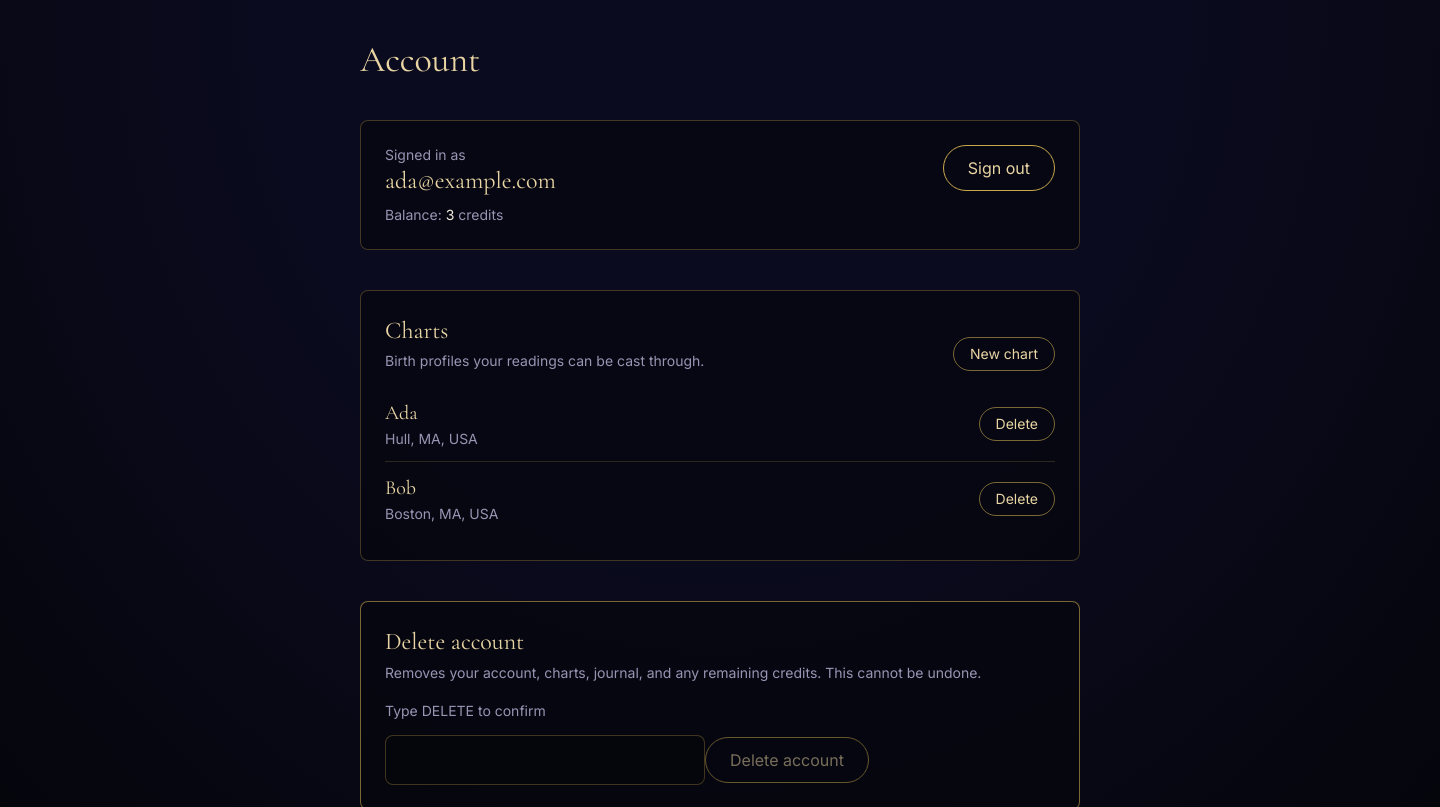
Test: profiles are listed and deleted after an inline confirmation
Expected: the number of list items is 2, [385, 387, 1055, 462]; [385, 462, 1055, 536]
Expected: the list item "Ada Hull, MA, USA Delete" is shown, [385, 387, 1055, 462]
Click the button with aria-label "Delete Ada" at point(1017, 424), box [979, 407, 1055, 441]
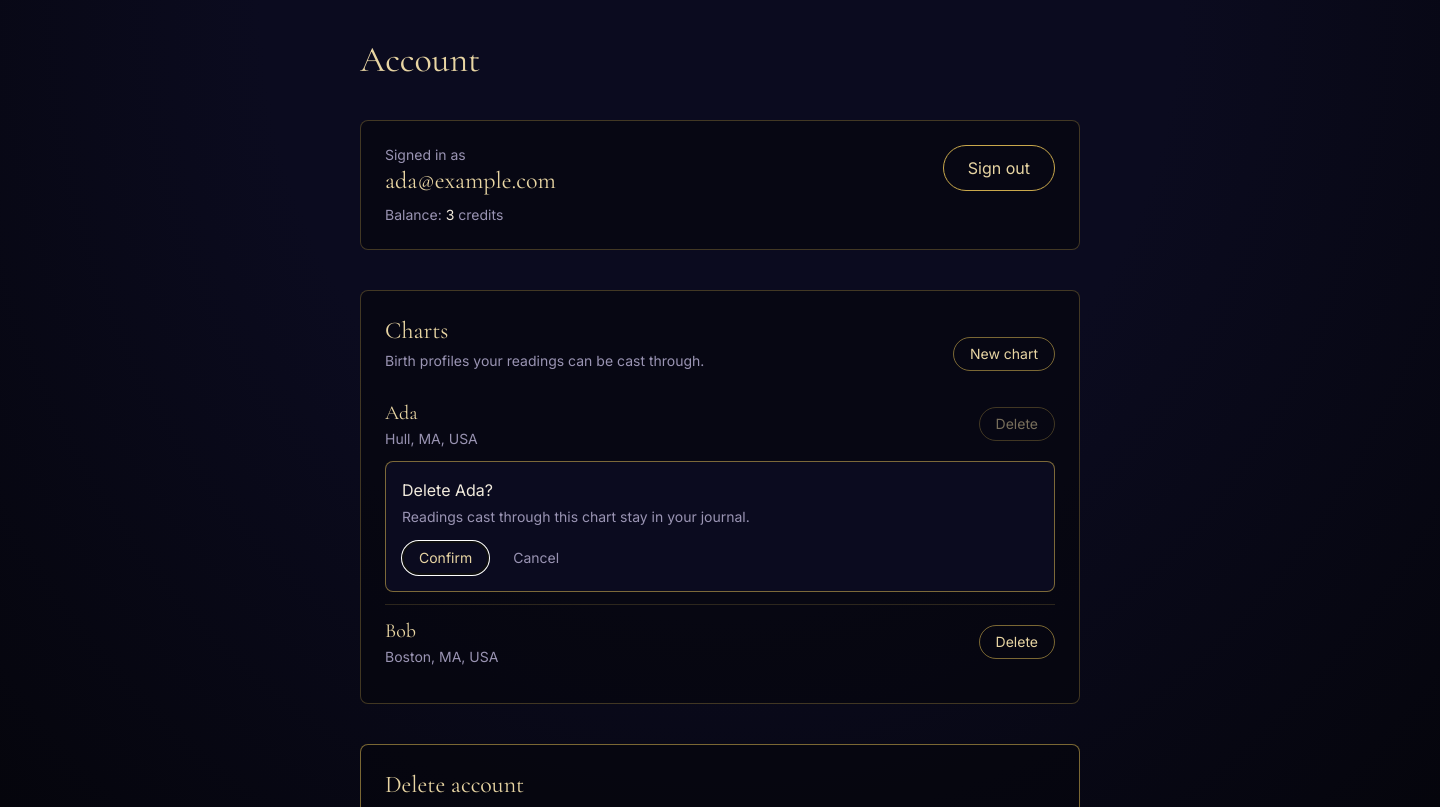
Expected: the text "Delete Ada?" is shown, [402, 480, 493, 500]
Click the button "Cancel" at point(536, 558), box [497, 541, 575, 575]
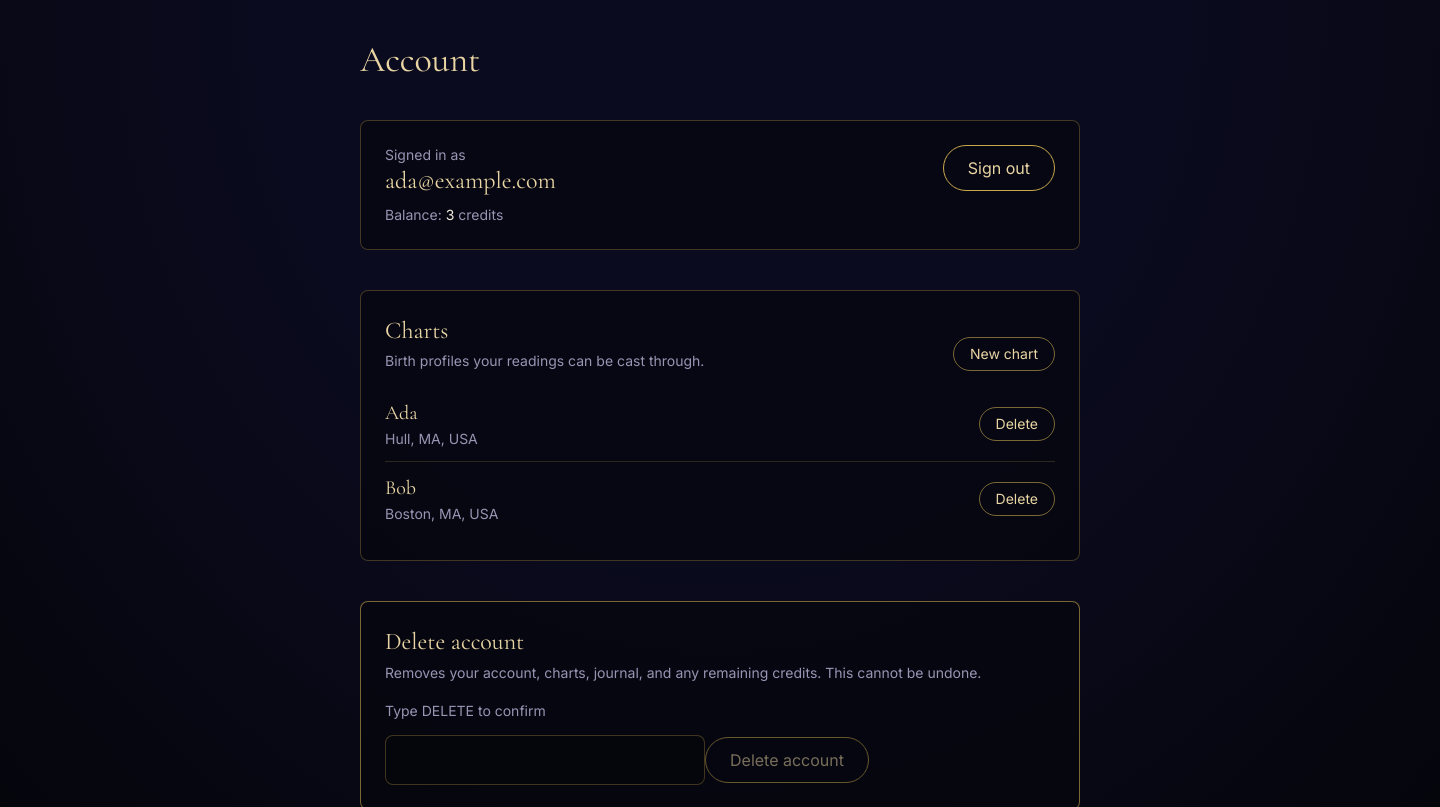
Expected: the text "Delete Ada?" is gone
Click the button with aria-label "Delete Ada" at point(1017, 424), box [979, 407, 1055, 441]
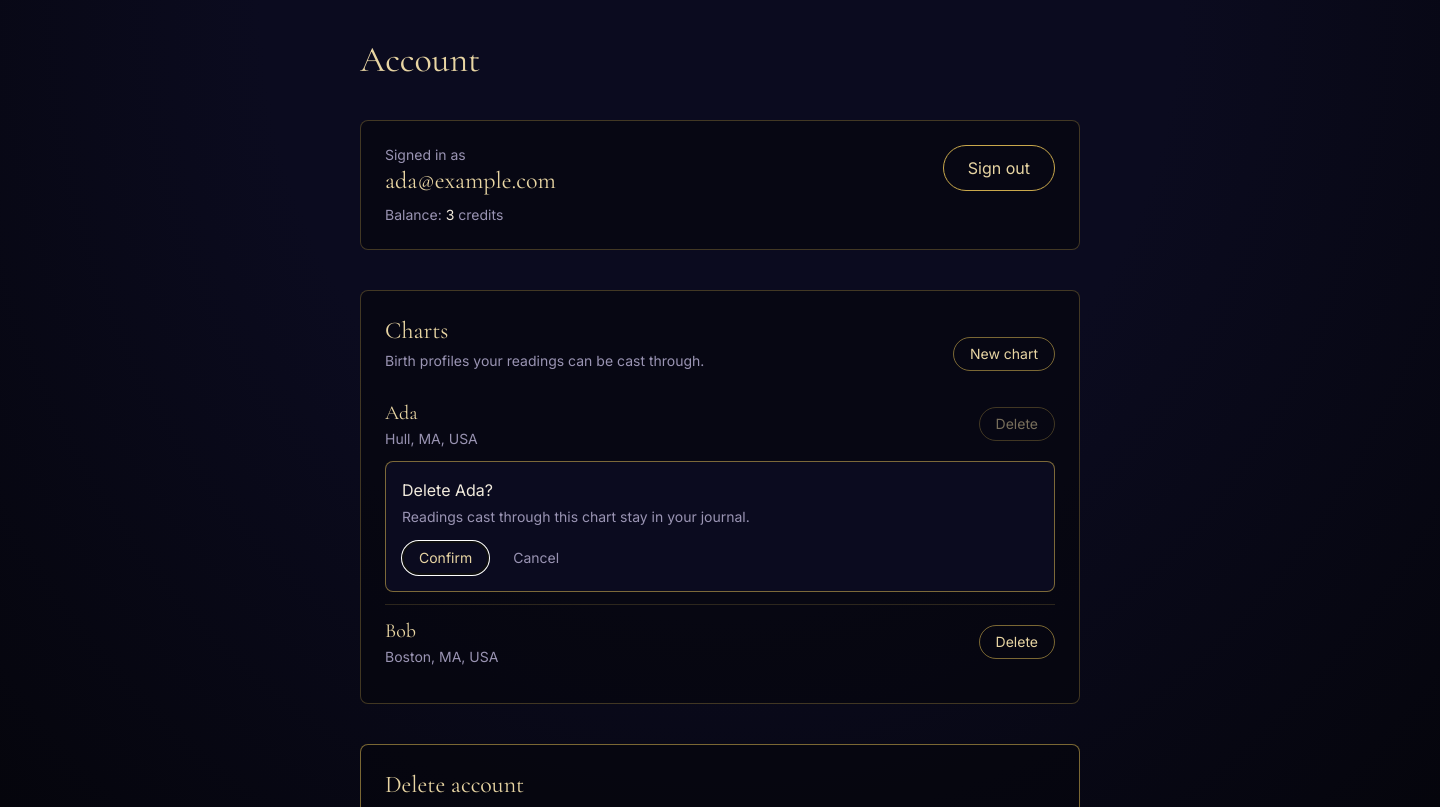
Click the button "Confirm" at point(446, 558), box [402, 541, 489, 575]
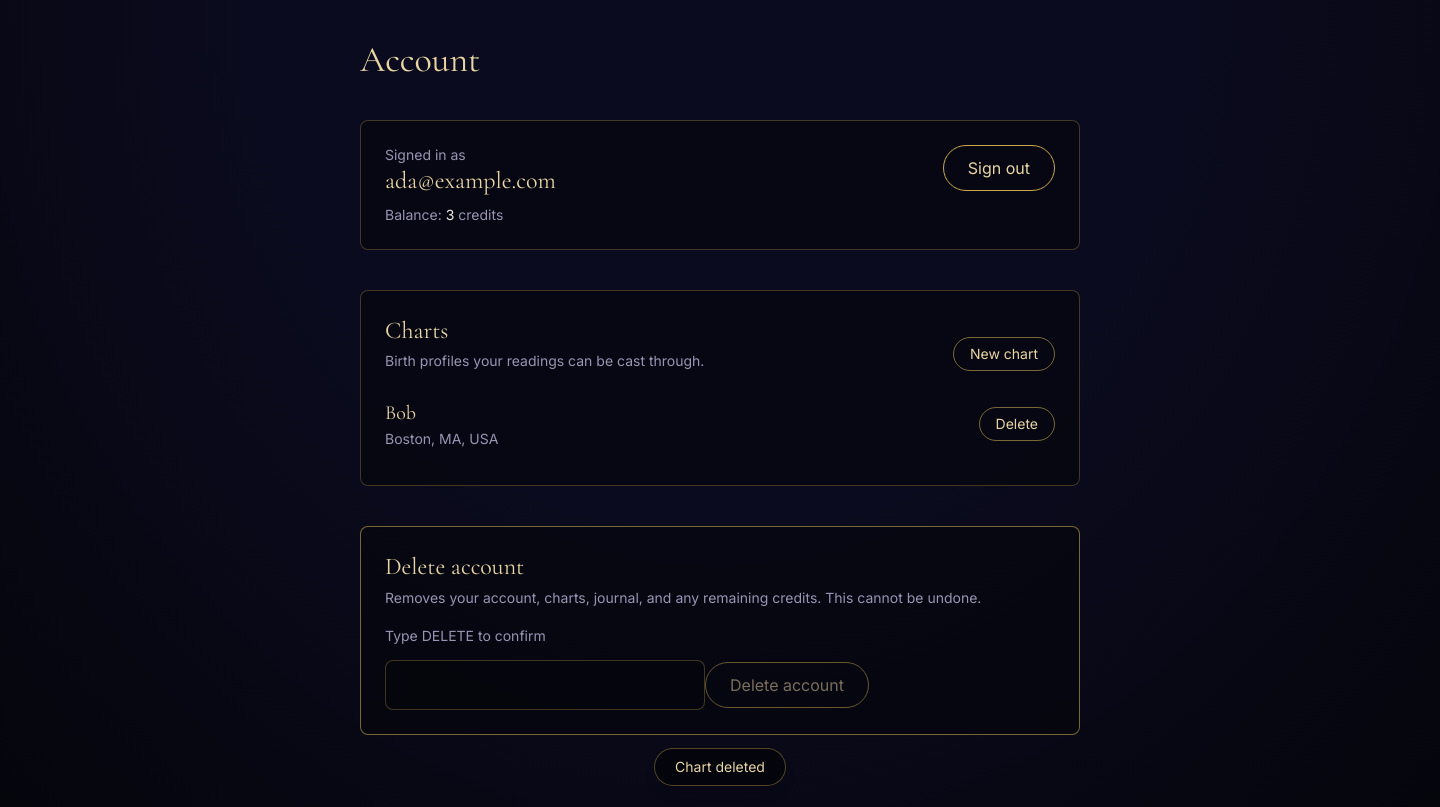
Expected: the list item shows "Bob", [385, 399, 498, 449]
Expected: the number of list items is 1, [385, 387, 1055, 461]
